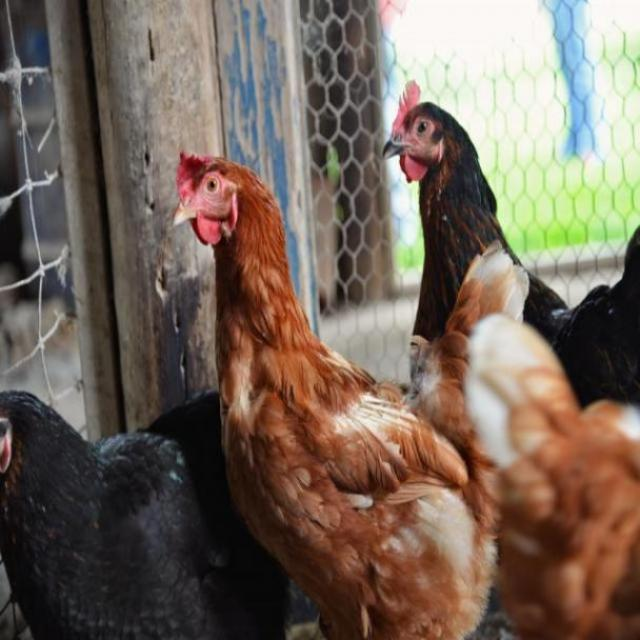Chicken: (184, 130, 521, 623), (381, 81, 640, 414), (0, 386, 293, 640)
